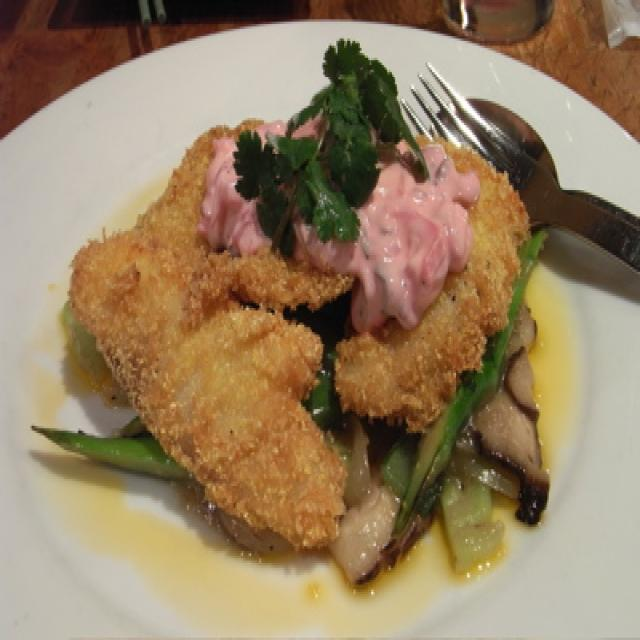炸货点心: (78, 147, 640, 640)
熟制海鲜: (78, 147, 640, 640)
